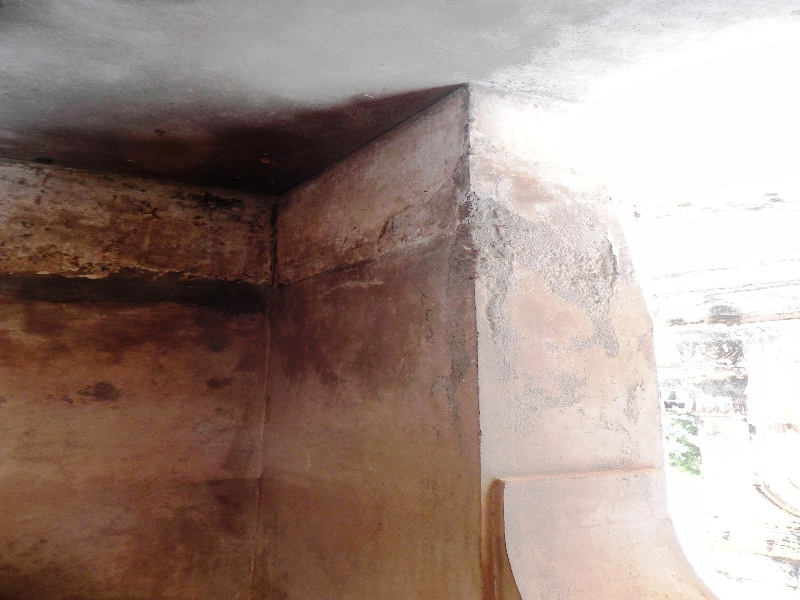Spalling: (455, 197, 621, 306)
